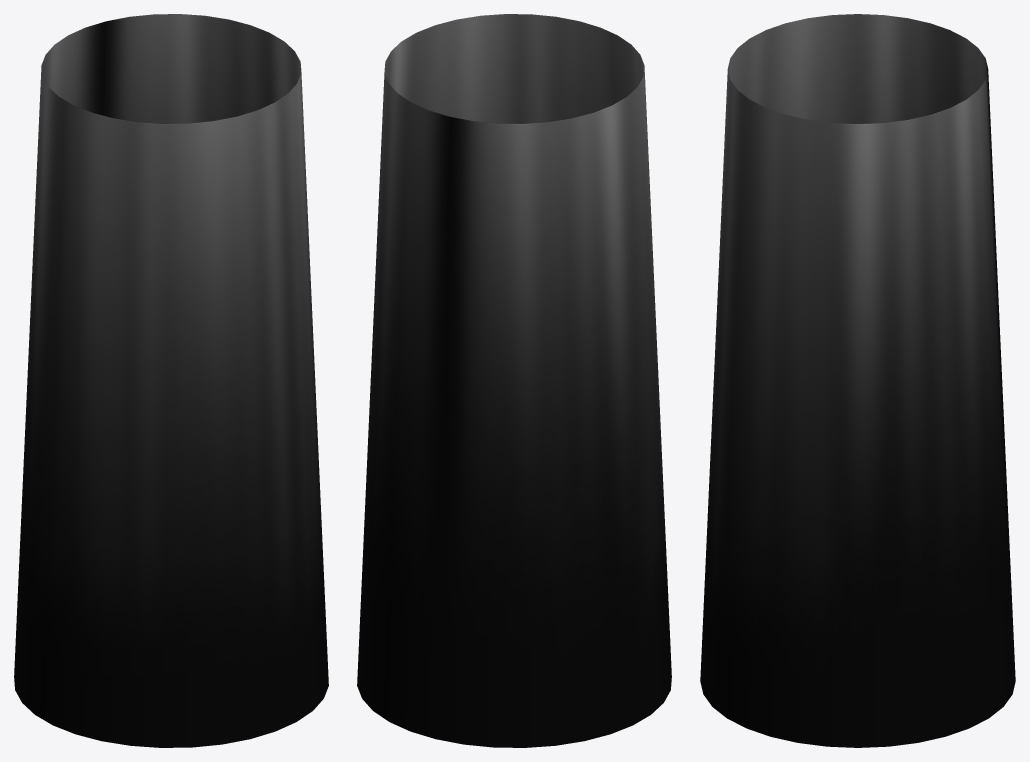
Rendered from beam.fbx.
3 renders of one model, left to right at view 1: azimuth 30°, elevation 25°; view 2: azimuth 150°, elevation 25°; view 3: azimuth 270°, elevation 25°, orthographic.
Visible parts, largest first — view 1: Cylinder; view 2: Cylinder; view 3: Cylinder.
Boxes of the visible parts, x1,y1,x2,y2 form: Cylinder: (14, 14, 328, 747); Cylinder: (357, 14, 671, 747); Cylinder: (700, 14, 1015, 747).
Bounding box in the file's own units: 200 × 428 × 200.
